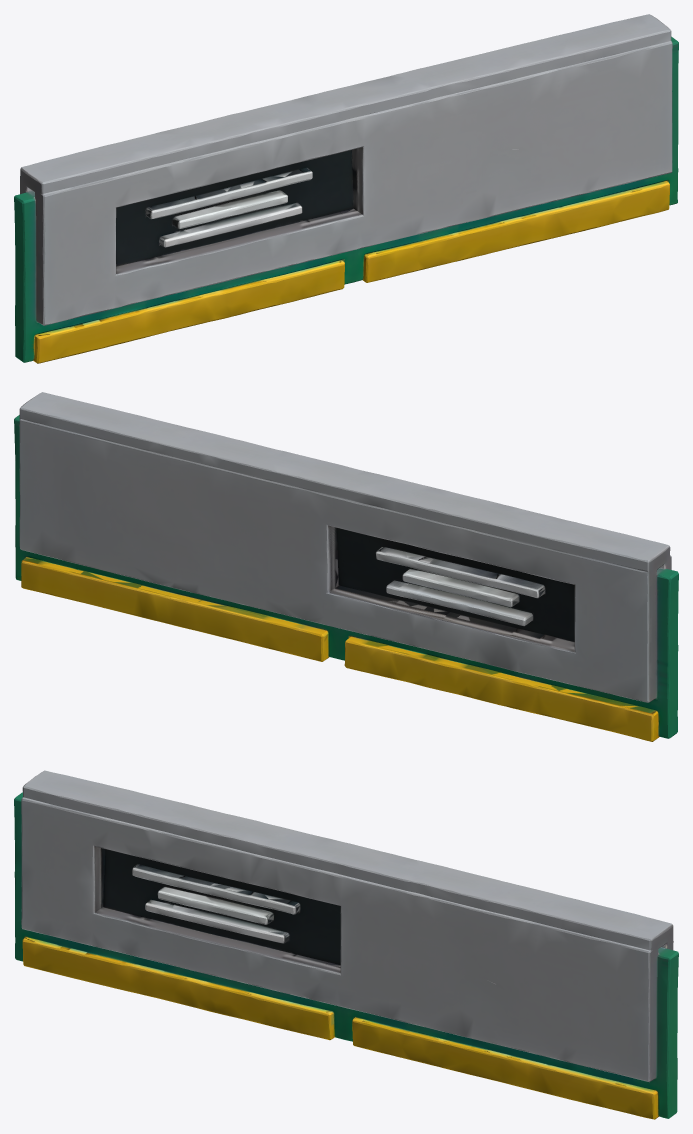
The model's file is ram_ddr5.fbx.
The picture shows the model from 3 angles, top to bottom: view 1: azimuth 30°, elevation 25°; view 2: azimuth 150°, elevation 25°; view 3: azimuth 330°, elevation 25°; orthographic projection.
Parts seen in each view (by area): view 1: model; view 2: model; view 3: model.
Part boxes in pixels (bbox=[...]): model: bbox=[14, 14, 678, 363]; model: bbox=[14, 392, 678, 741]; model: bbox=[14, 770, 678, 1119].
Bounding box in the file's own units: 190 × 50.73 × 12.63.
Materials: 1 (1 with a texture image).
